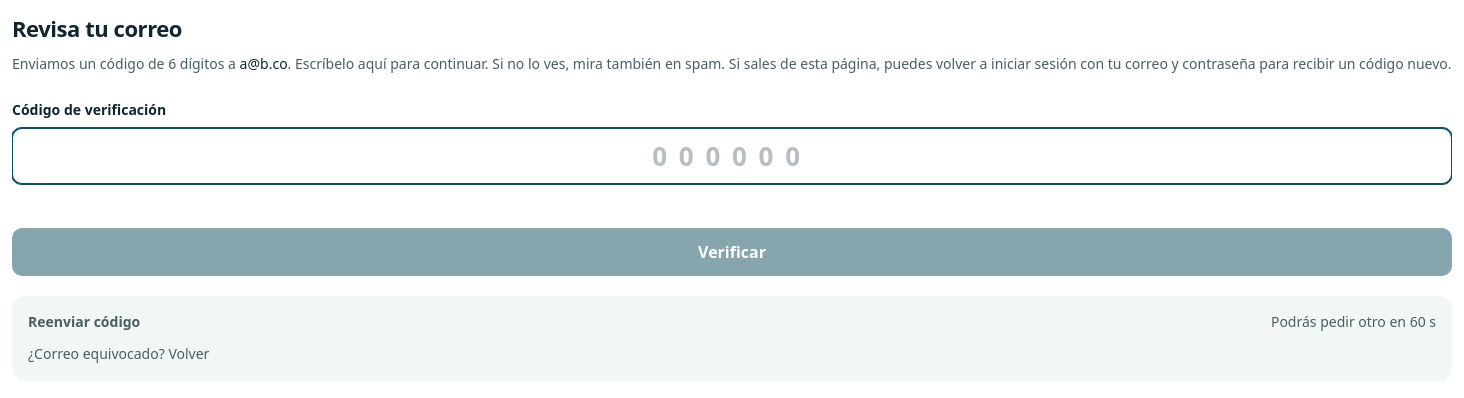
CodigoVerificacionPaso › acepta solo dígitos y máximo 6
This screenshot has width=1464, height=398.
Type "12ab34-5678" into the field labelled "Código de verificación". click: x=732, y=156
box: [12,128,1452,184]
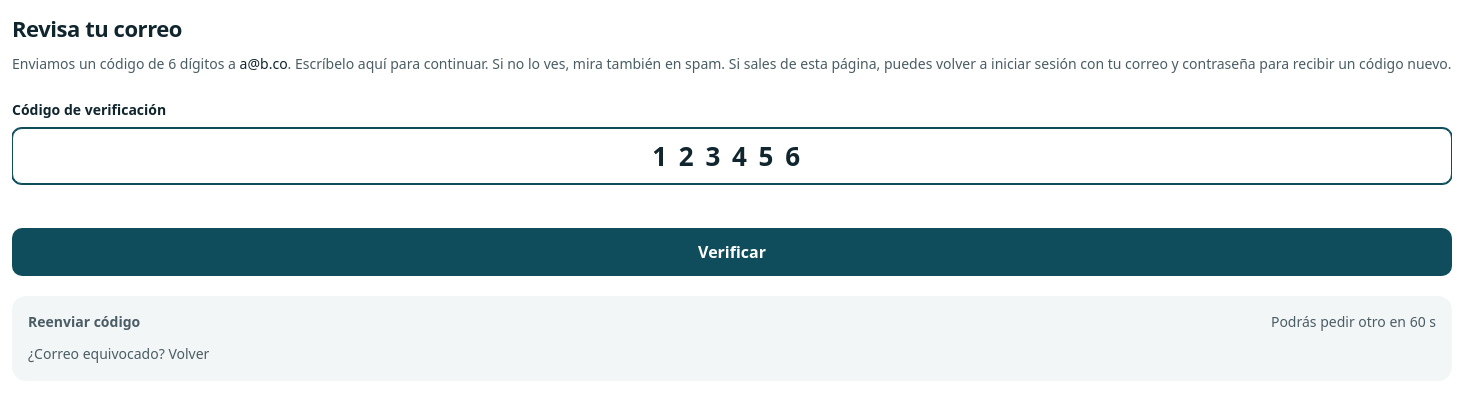
Now the field labelled "Código de verificación" holds "123456", box [12,128,1452,184]
